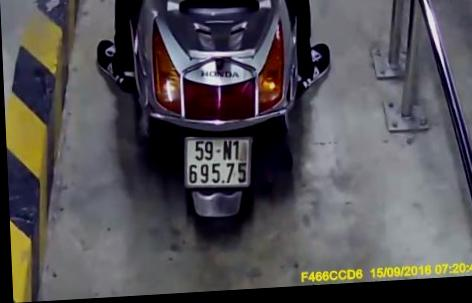License_Plate: (178, 129, 262, 196)
